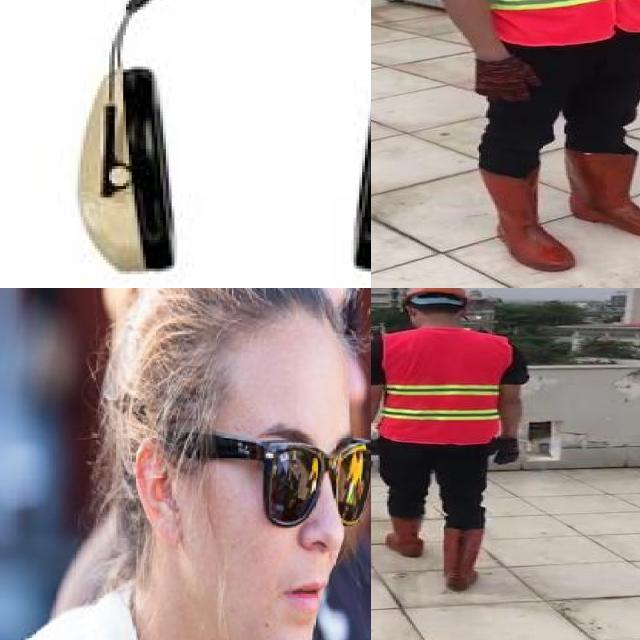Ear-protection: (75, 58, 180, 274), (345, 61, 371, 277)
No_Ear-Protection: (131, 434, 190, 552)
boots: (479, 162, 575, 272), (566, 147, 640, 239), (438, 525, 488, 589), (384, 513, 426, 558)
face_nomask: (250, 419, 364, 633)
glasses: (171, 411, 371, 540)
hand_glove: (472, 57, 541, 104), (488, 436, 522, 465), (371, 437, 380, 467)
head_helmet: (400, 288, 473, 307)
head_nohelmet: (117, 288, 371, 390)
person: (9, 288, 371, 640), (398, 0, 640, 288), (371, 288, 533, 598)
vest: (380, 327, 508, 443), (472, 0, 640, 44)
